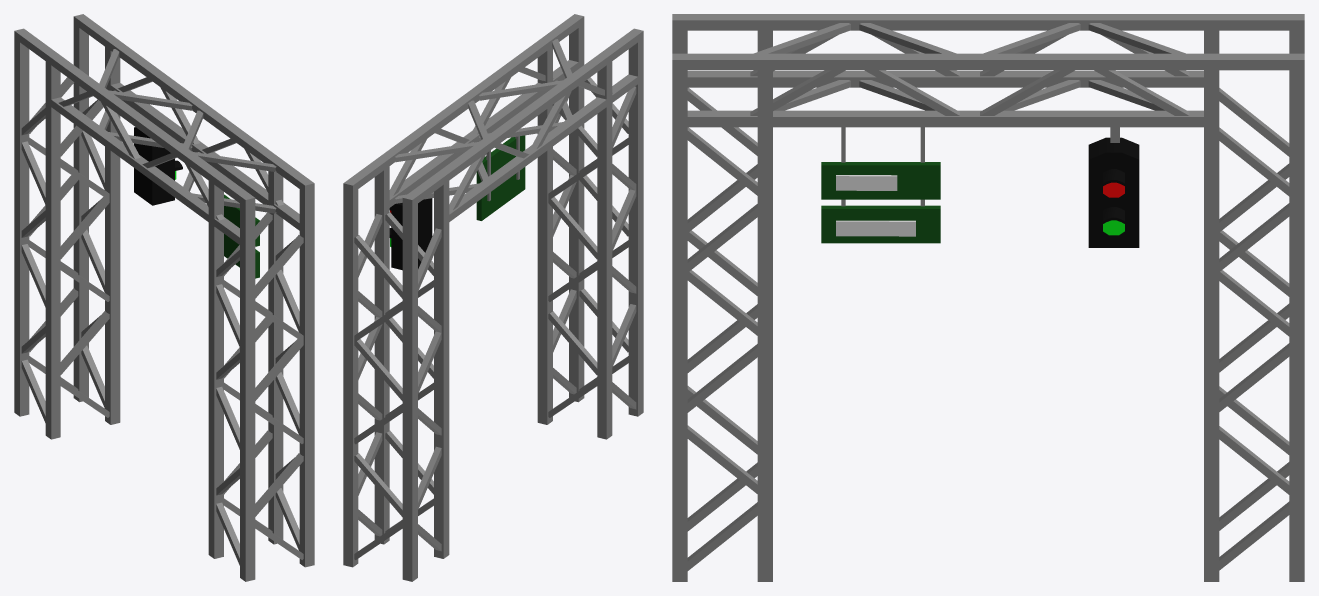
Rendered from Signal_07.FBX.
3 renders of one model, left to right at view 1: azimuth 30°, elevation 25°; view 2: azimuth 150°, elevation 25°; view 3: azimuth 270°, elevation 25°, orthographic. The views are drawn at different scales.
Visible parts, largest first — view 1: Signal_07; view 2: Signal_07; view 3: Signal_07.
Boxes of the visible parts, x1,y1,x2,y2 form: Signal_07: (14,14,314,581); Signal_07: (343,14,643,581); Signal_07: (672,14,1304,581).
Bounding box in the file's own units: 3.81 × 14.64 × 16.07.
